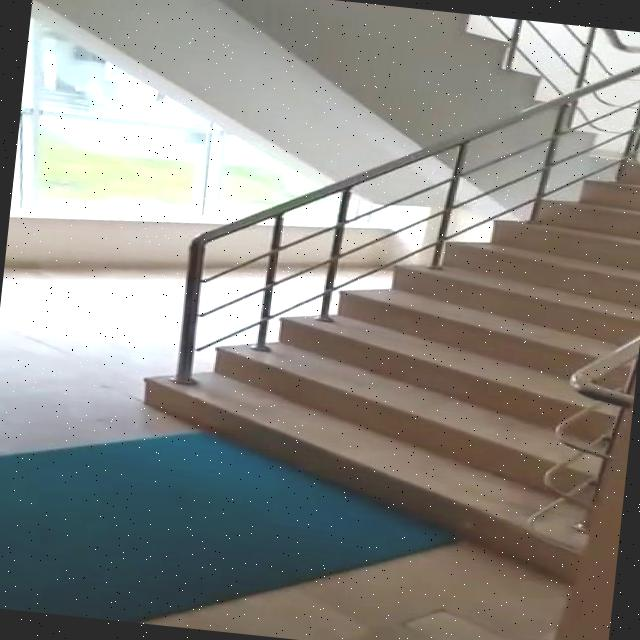stairs: (126, 108, 640, 582)
